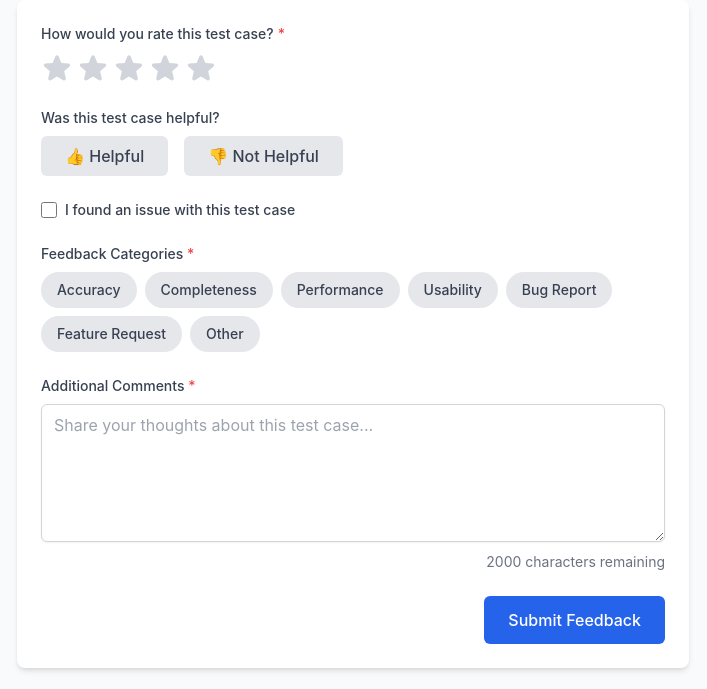
Test: TestCaseFeedback Component › Form Submission › should show loading state during submission
Fill form
Click the button named "star": click(129, 68) [113,52,145,84]
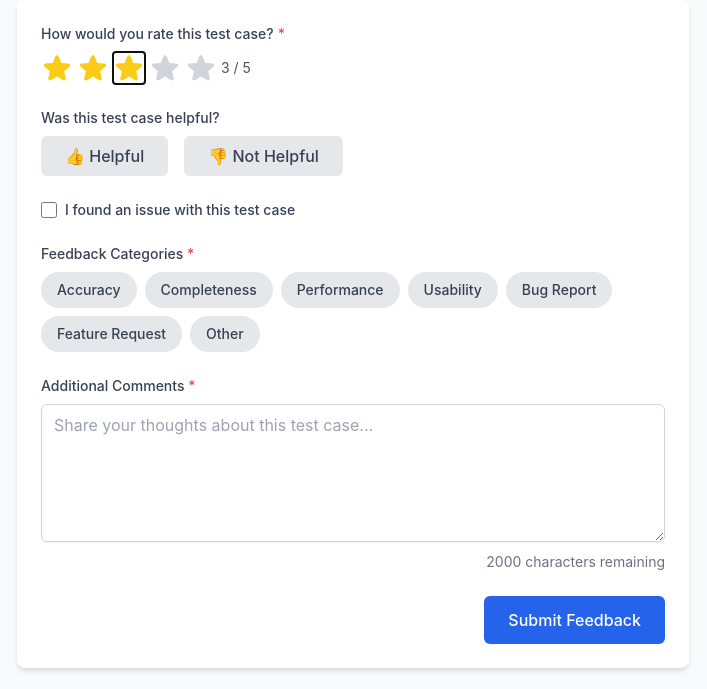
In the text box with placeholder "Share your thoughts about this test case...": (353, 473) [41,404,665,542], type "Test comment"
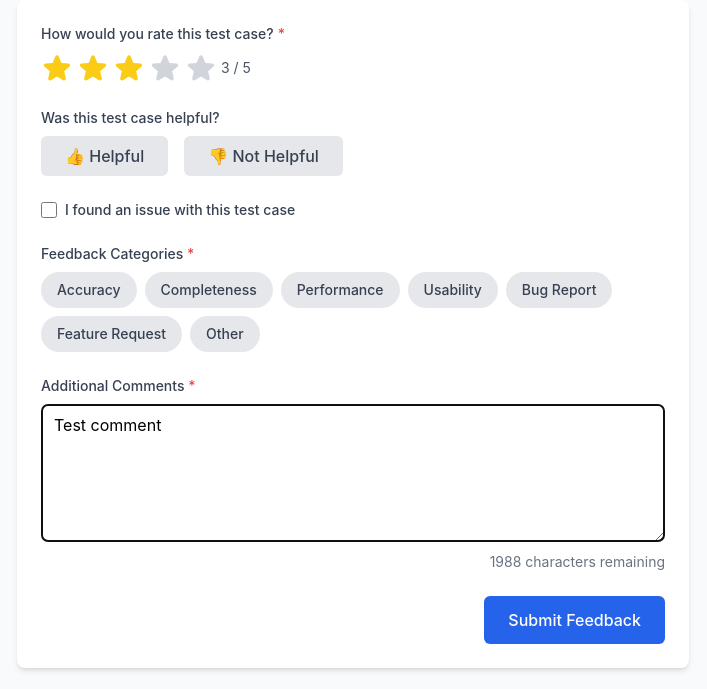
Click the button "Accuracy": click(89, 290) [41,272,137,308]
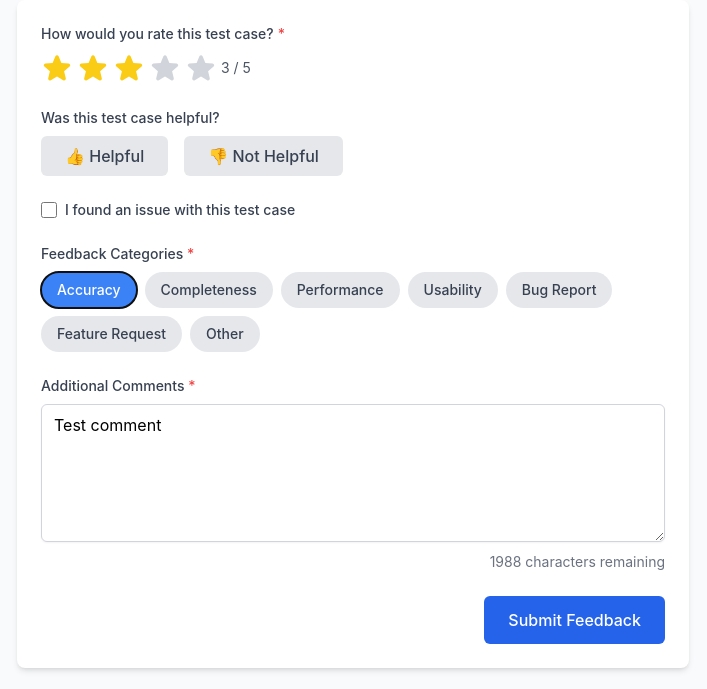
Click the button "Submit Feedback": click(575, 620) [484,596,665,644]
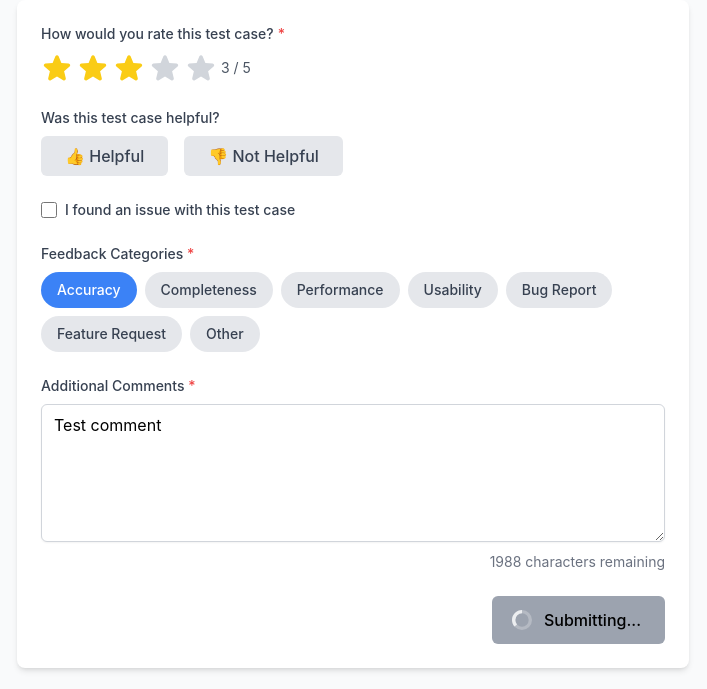
Expected: the text "Submitting..." is shown, [516,608,641,632]
Expected: the button "Submit Feedback" is disabled, [492,596,665,644]
